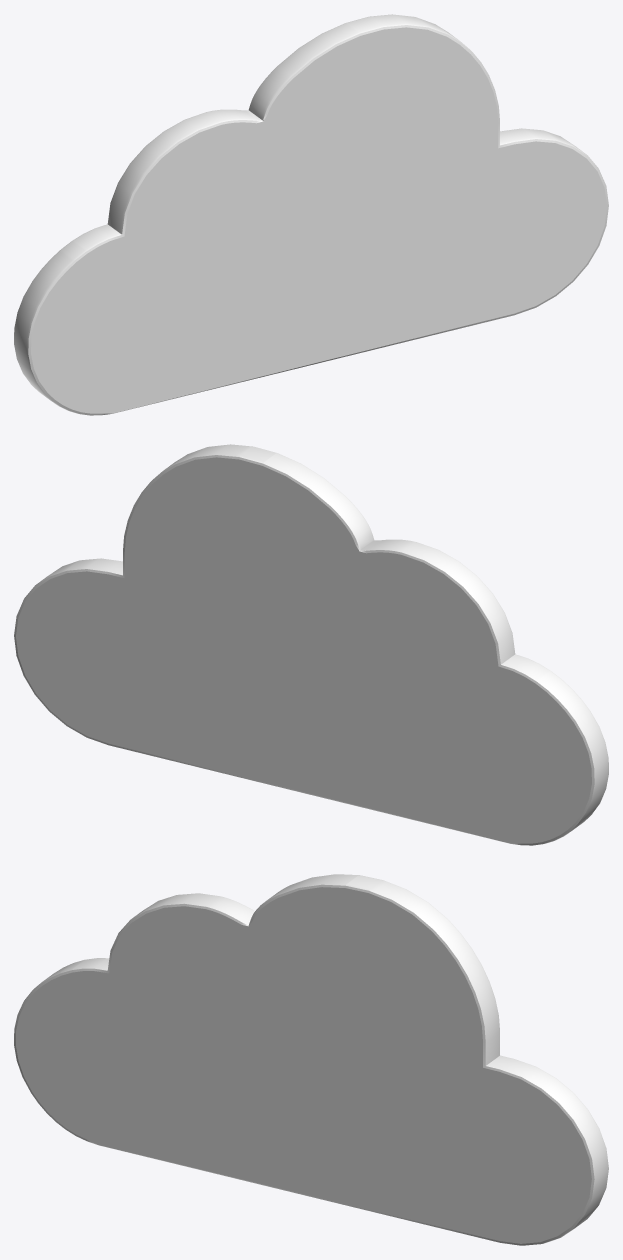
Rendered from Cloud.FBX.
3 views of the same model, one above another, from view 1: azimuth 30°, elevation 25°; view 2: azimuth 150°, elevation 25°; view 3: azimuth 330°, elevation 25° (orthographic).
Parts seen in each view (by area): view 1: cloud; view 2: cloud; view 3: cloud.
Part boxes in pixels (box(x1,y1,x2,y2)): cloud: box(14, 14, 608, 415); cloud: box(14, 444, 608, 845); cloud: box(14, 874, 608, 1245).
Bounding box in the file's own units: 81.01 × 42.75 × 3.66.
Materials: 1 (1 with a texture image).
